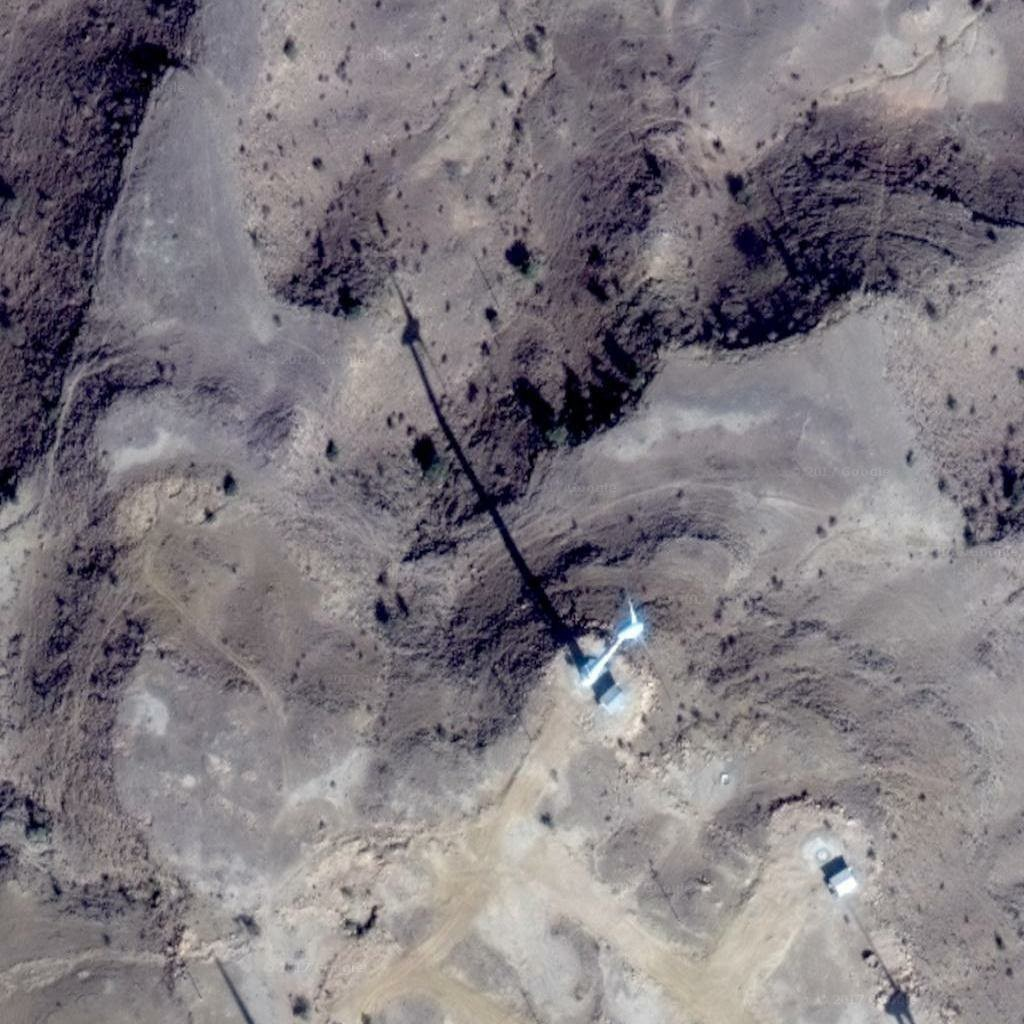Windmill: (363, 260, 590, 667)
